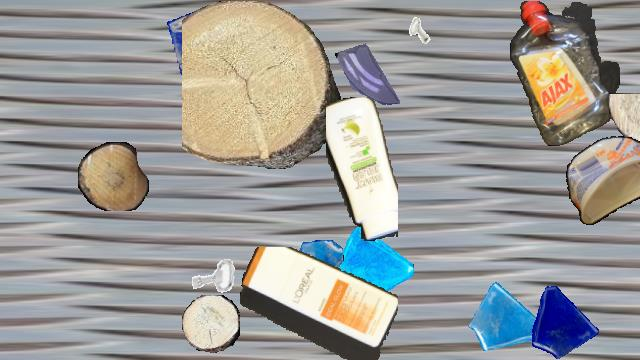glass: (320, 225, 414, 319), (167, 1, 259, 93), (468, 279, 548, 359), (523, 281, 601, 359), (334, 38, 404, 108), (284, 240, 344, 300)
metal: (239, 93, 297, 151), (186, 248, 242, 304), (401, 12, 439, 50)
plastic: (240, 247, 398, 359), (509, 1, 619, 145), (326, 97, 398, 241), (566, 136, 640, 226)
wood: (182, 1, 340, 169), (78, 142, 148, 210), (182, 295, 240, 353), (609, 93, 640, 147)
